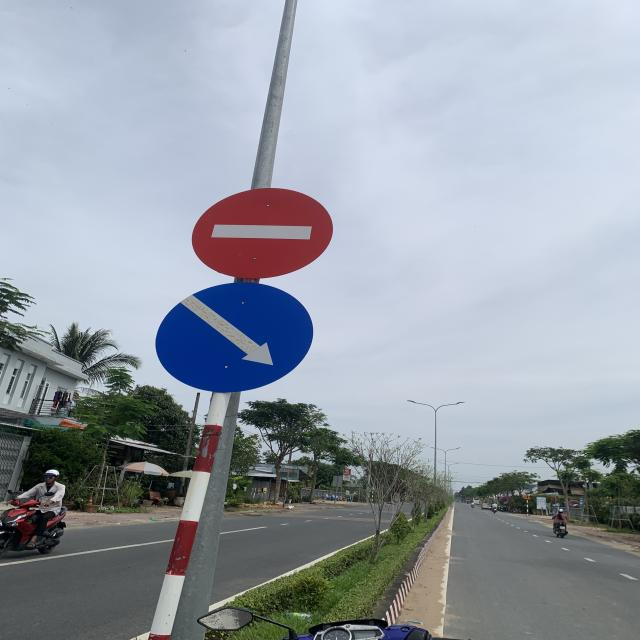Cam_Di_Nguoc_Chieu: (188, 186, 336, 283)
Chi_Huong_Di_Phai: (156, 283, 316, 392)
